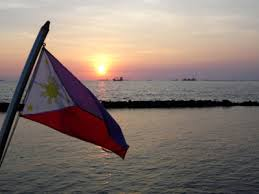Flag: (21, 46, 129, 159)
